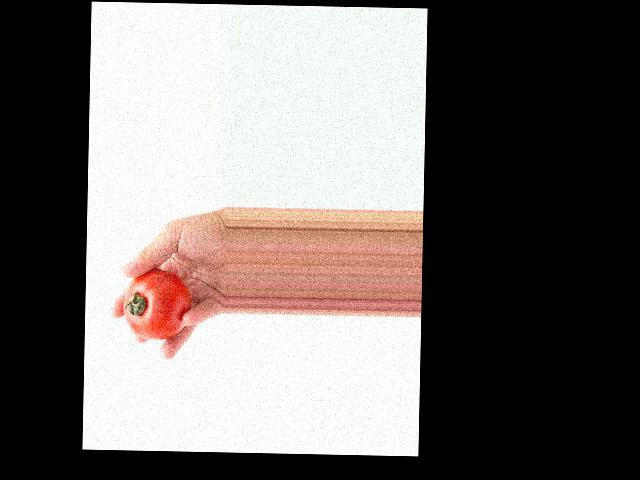tomato: (122, 268, 191, 341)
